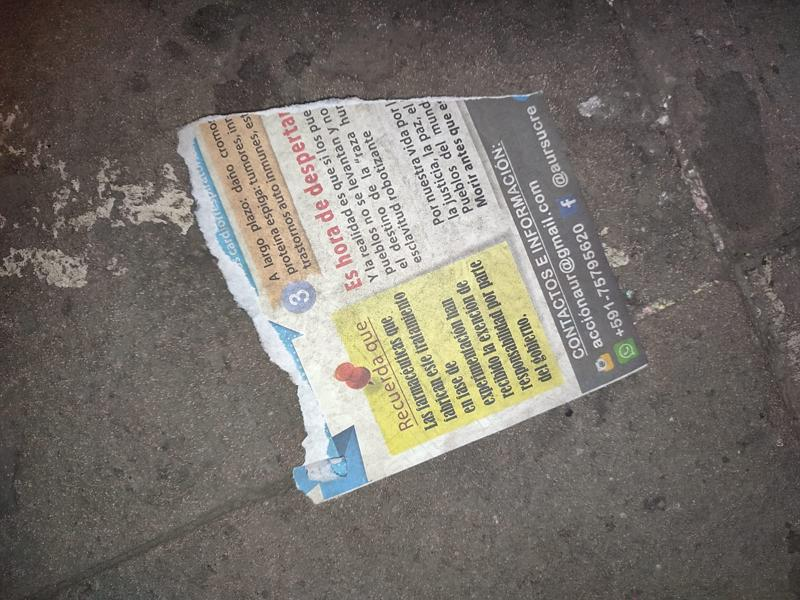papel: (176, 92, 648, 506)
